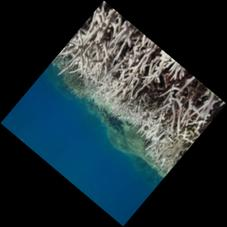bleached_corals: (39, 2, 226, 182)
